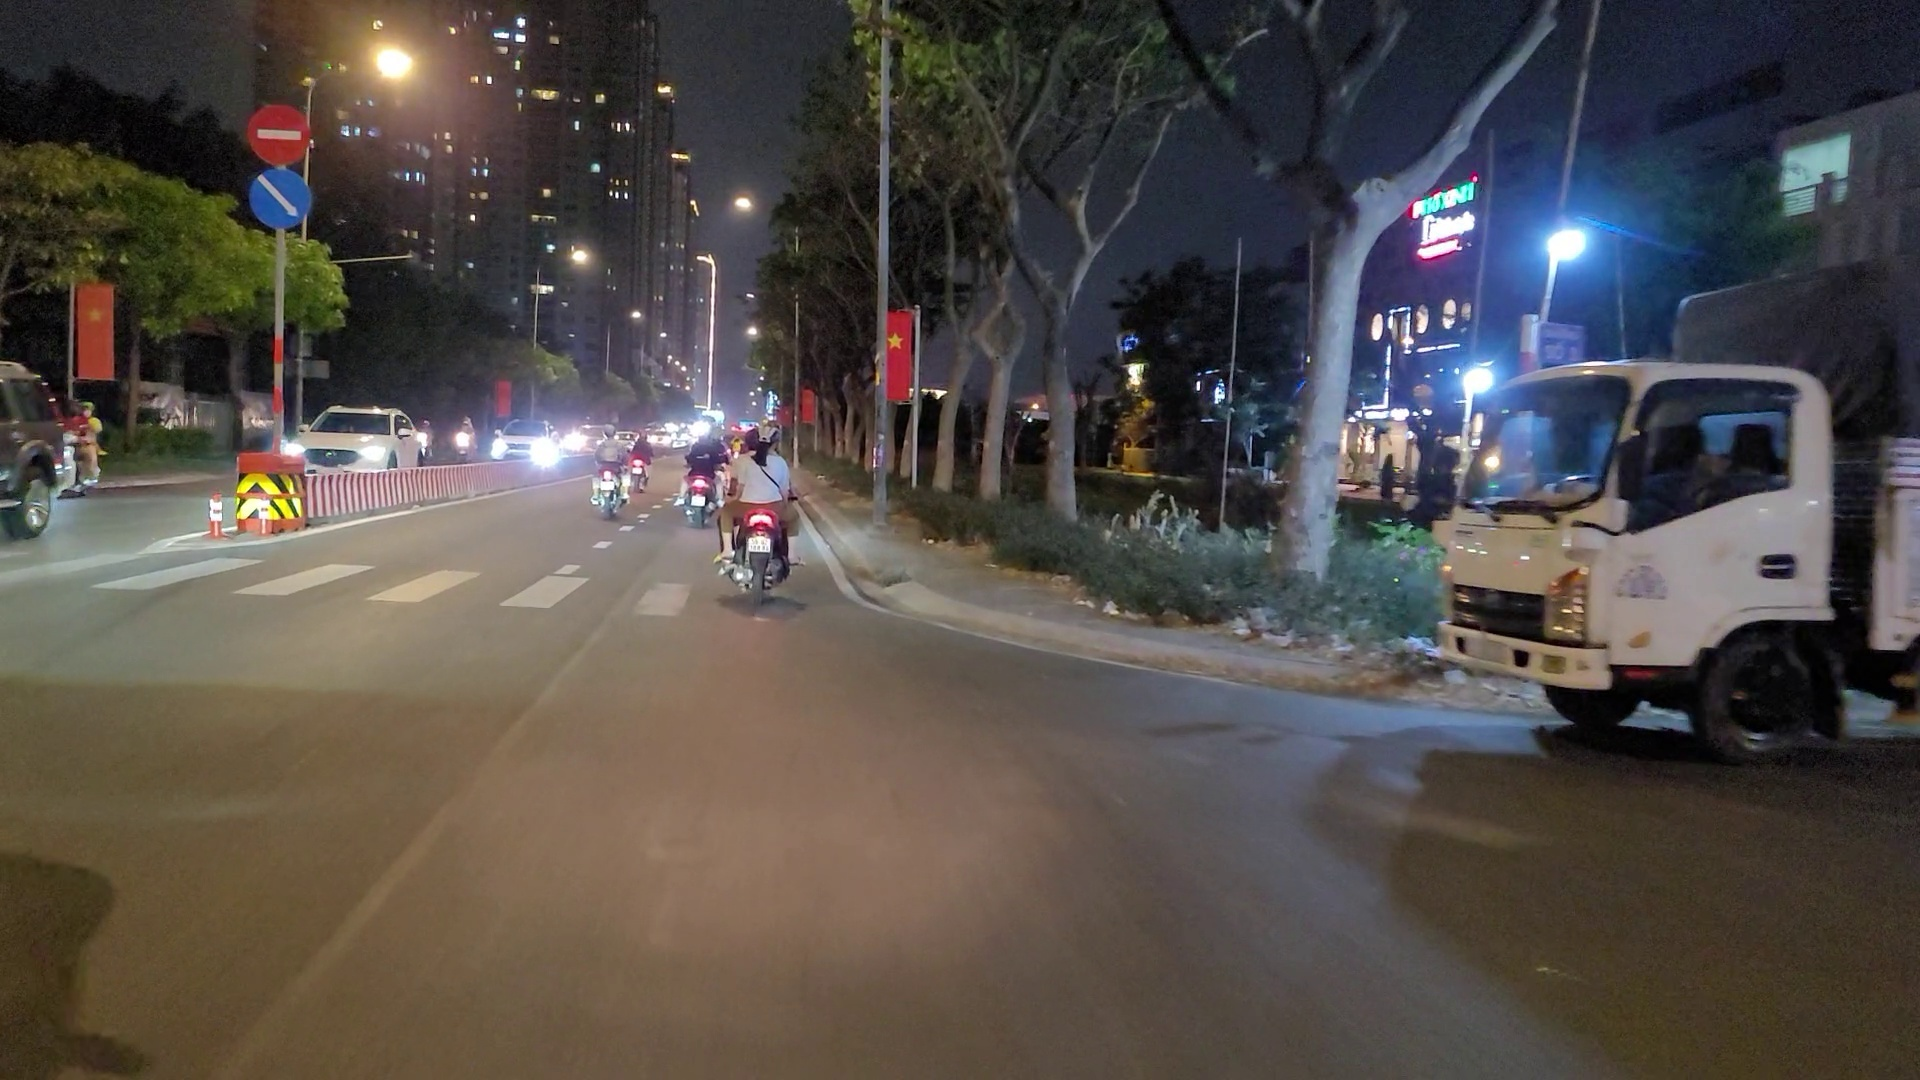Cam di nguoc chieu: (239, 102, 310, 164)
Huong di phai re phai: (245, 169, 311, 229)
